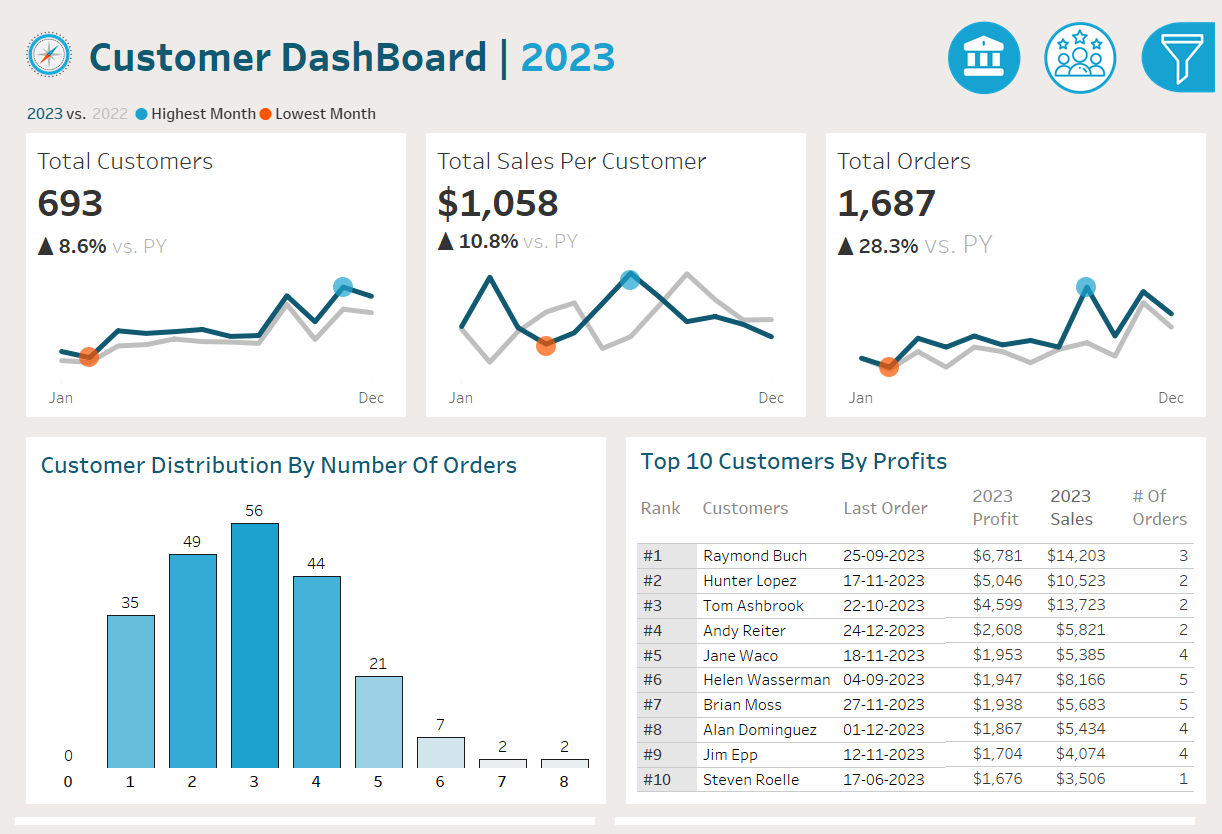

The page's visual inventory and layout, read from the dashboard file:
{"tool":"tableau","page":{"name":"Customer Dashboard","canvas":[1200,800],"ordinal":0},"visuals":[{"type":"image","param":"Image/Icon - Logo.png","box":[0,0,65,81]},{"type":"text","box":[65,0,835,81]},{"type":"dashboard-object","box":[919,2,97,83]},{"type":"dashboard-object","box":[1016,2,97,83]},{"type":"blank","box":[910,10,278,100]},{"type":"worksheet","title":"Legends Of KPI","mark":"Automatic","box":[0,81,1200,38]},{"type":"text","box":[910,110,278,40]},{"type":"worksheet","title":"KPI Customers","mark":"Automatic","rows":["Calculation_912541888311767045"],"cols":["Order Date"],"box":[0,119,400,294]},{"type":"worksheet","title":"KPI Sales Per Customer","mark":"Automatic","rows":["Calculation_912541888348467211"],"cols":["Order Date"],"box":[400,119,400,294]},{"type":"worksheet","title":"KPI Total Orders","mark":"Automatic","rows":["Calculation_912541888388079636"],"cols":["Order Date"],"box":[800,119,400,294]},{"type":"parameter","param":"[Parameters].[Parameter 1]","box":[910,150,278,61]},{"type":"text","box":[910,211,278,33]},{"type":"filter","title":"KPI Customers","param":"[federated.0188ps91u44wle14qe6sx1qiq9q4].[none:Category:nk]","box":[910,244,278,61]},{"type":"filter","title":"KPI Customers","param":"[federated.0188ps91u44wle14qe6sx1qiq9q4].[none:Sub-Category:nk]","box":[910,305,278,84]},{"type":"text","box":[910,389,278,33]},{"type":"filter","title":"KPI Customers","param":"[federated.0188ps91u44wle14qe6sx1qiq9q4].[none:Region:nk]","box":[910,422,278,61]},{"type":"text","box":[17,430,566,40]},{"type":"text","box":[617,430,566,32]},{"type":"text","box":[617,462,62,63]},{"type":"text","box":[679,462,141,63]},{"type":"text","box":[820,462,129,63]},{"type":"text","box":[949,462,78,63]},{"type":"text","box":[1027,462,82,63]},{"type":"text","box":[1109,462,74,63]},{"type":"worksheet","title":"Customer Distribution","mark":"Automatic","rows":["Calculation_912541888264851456"],"cols":["Calculation_912541888568111131"],"box":[17,470,566,313]},{"type":"filter","title":"KPI Customers","param":"[federated.0188ps91u44wle14qe6sx1qiq9q4].[none:State:nk]","box":[910,483,278,61]},{"type":"worksheet","title":"Top Customers","mark":"Automatic","rows":["Calculation_912541888586395680","Customer Name","Order Date"],"box":[617,525,566,258]},{"type":"filter","title":"KPI Customers","param":"[federated.0188ps91u44wle14qe6sx1qiq9q4].[none:City:nk]","box":[910,544,278,61]}]}

Visuals, with their boxes in screenshot pixels (x1, y1, x2, y2), scaled from the page's 1200x800 canvas onto the 1222x834 screenshot:
image: (left=0, top=0, right=66, bottom=84)
text: (left=66, top=0, right=916, bottom=84)
dashboard-object: (left=936, top=2, right=1035, bottom=89)
dashboard-object: (left=1035, top=2, right=1133, bottom=89)
blank: (left=927, top=10, right=1210, bottom=115)
"Legends Of KPI" worksheet: (left=0, top=84, right=1221, bottom=124)
text: (left=927, top=115, right=1210, bottom=156)
"KPI Customers" worksheet: (left=0, top=124, right=407, bottom=431)
"KPI Sales Per Customer" worksheet: (left=407, top=124, right=815, bottom=431)
"KPI Total Orders" worksheet: (left=815, top=124, right=1221, bottom=431)
parameter: (left=927, top=156, right=1210, bottom=220)
text: (left=927, top=220, right=1210, bottom=254)
"KPI Customers" filter: (left=927, top=254, right=1210, bottom=318)
"KPI Customers" filter: (left=927, top=318, right=1210, bottom=406)
text: (left=927, top=406, right=1210, bottom=440)
"KPI Customers" filter: (left=927, top=440, right=1210, bottom=504)
text: (left=17, top=448, right=594, bottom=490)
text: (left=628, top=448, right=1205, bottom=482)
text: (left=628, top=482, right=691, bottom=547)
text: (left=691, top=482, right=835, bottom=547)
text: (left=835, top=482, right=966, bottom=547)
text: (left=966, top=482, right=1046, bottom=547)
text: (left=1046, top=482, right=1129, bottom=547)
text: (left=1129, top=482, right=1205, bottom=547)
"Customer Distribution" worksheet: (left=17, top=490, right=594, bottom=816)
"KPI Customers" filter: (left=927, top=504, right=1210, bottom=567)
"Top Customers" worksheet: (left=628, top=547, right=1205, bottom=816)
"KPI Customers" filter: (left=927, top=567, right=1210, bottom=631)
